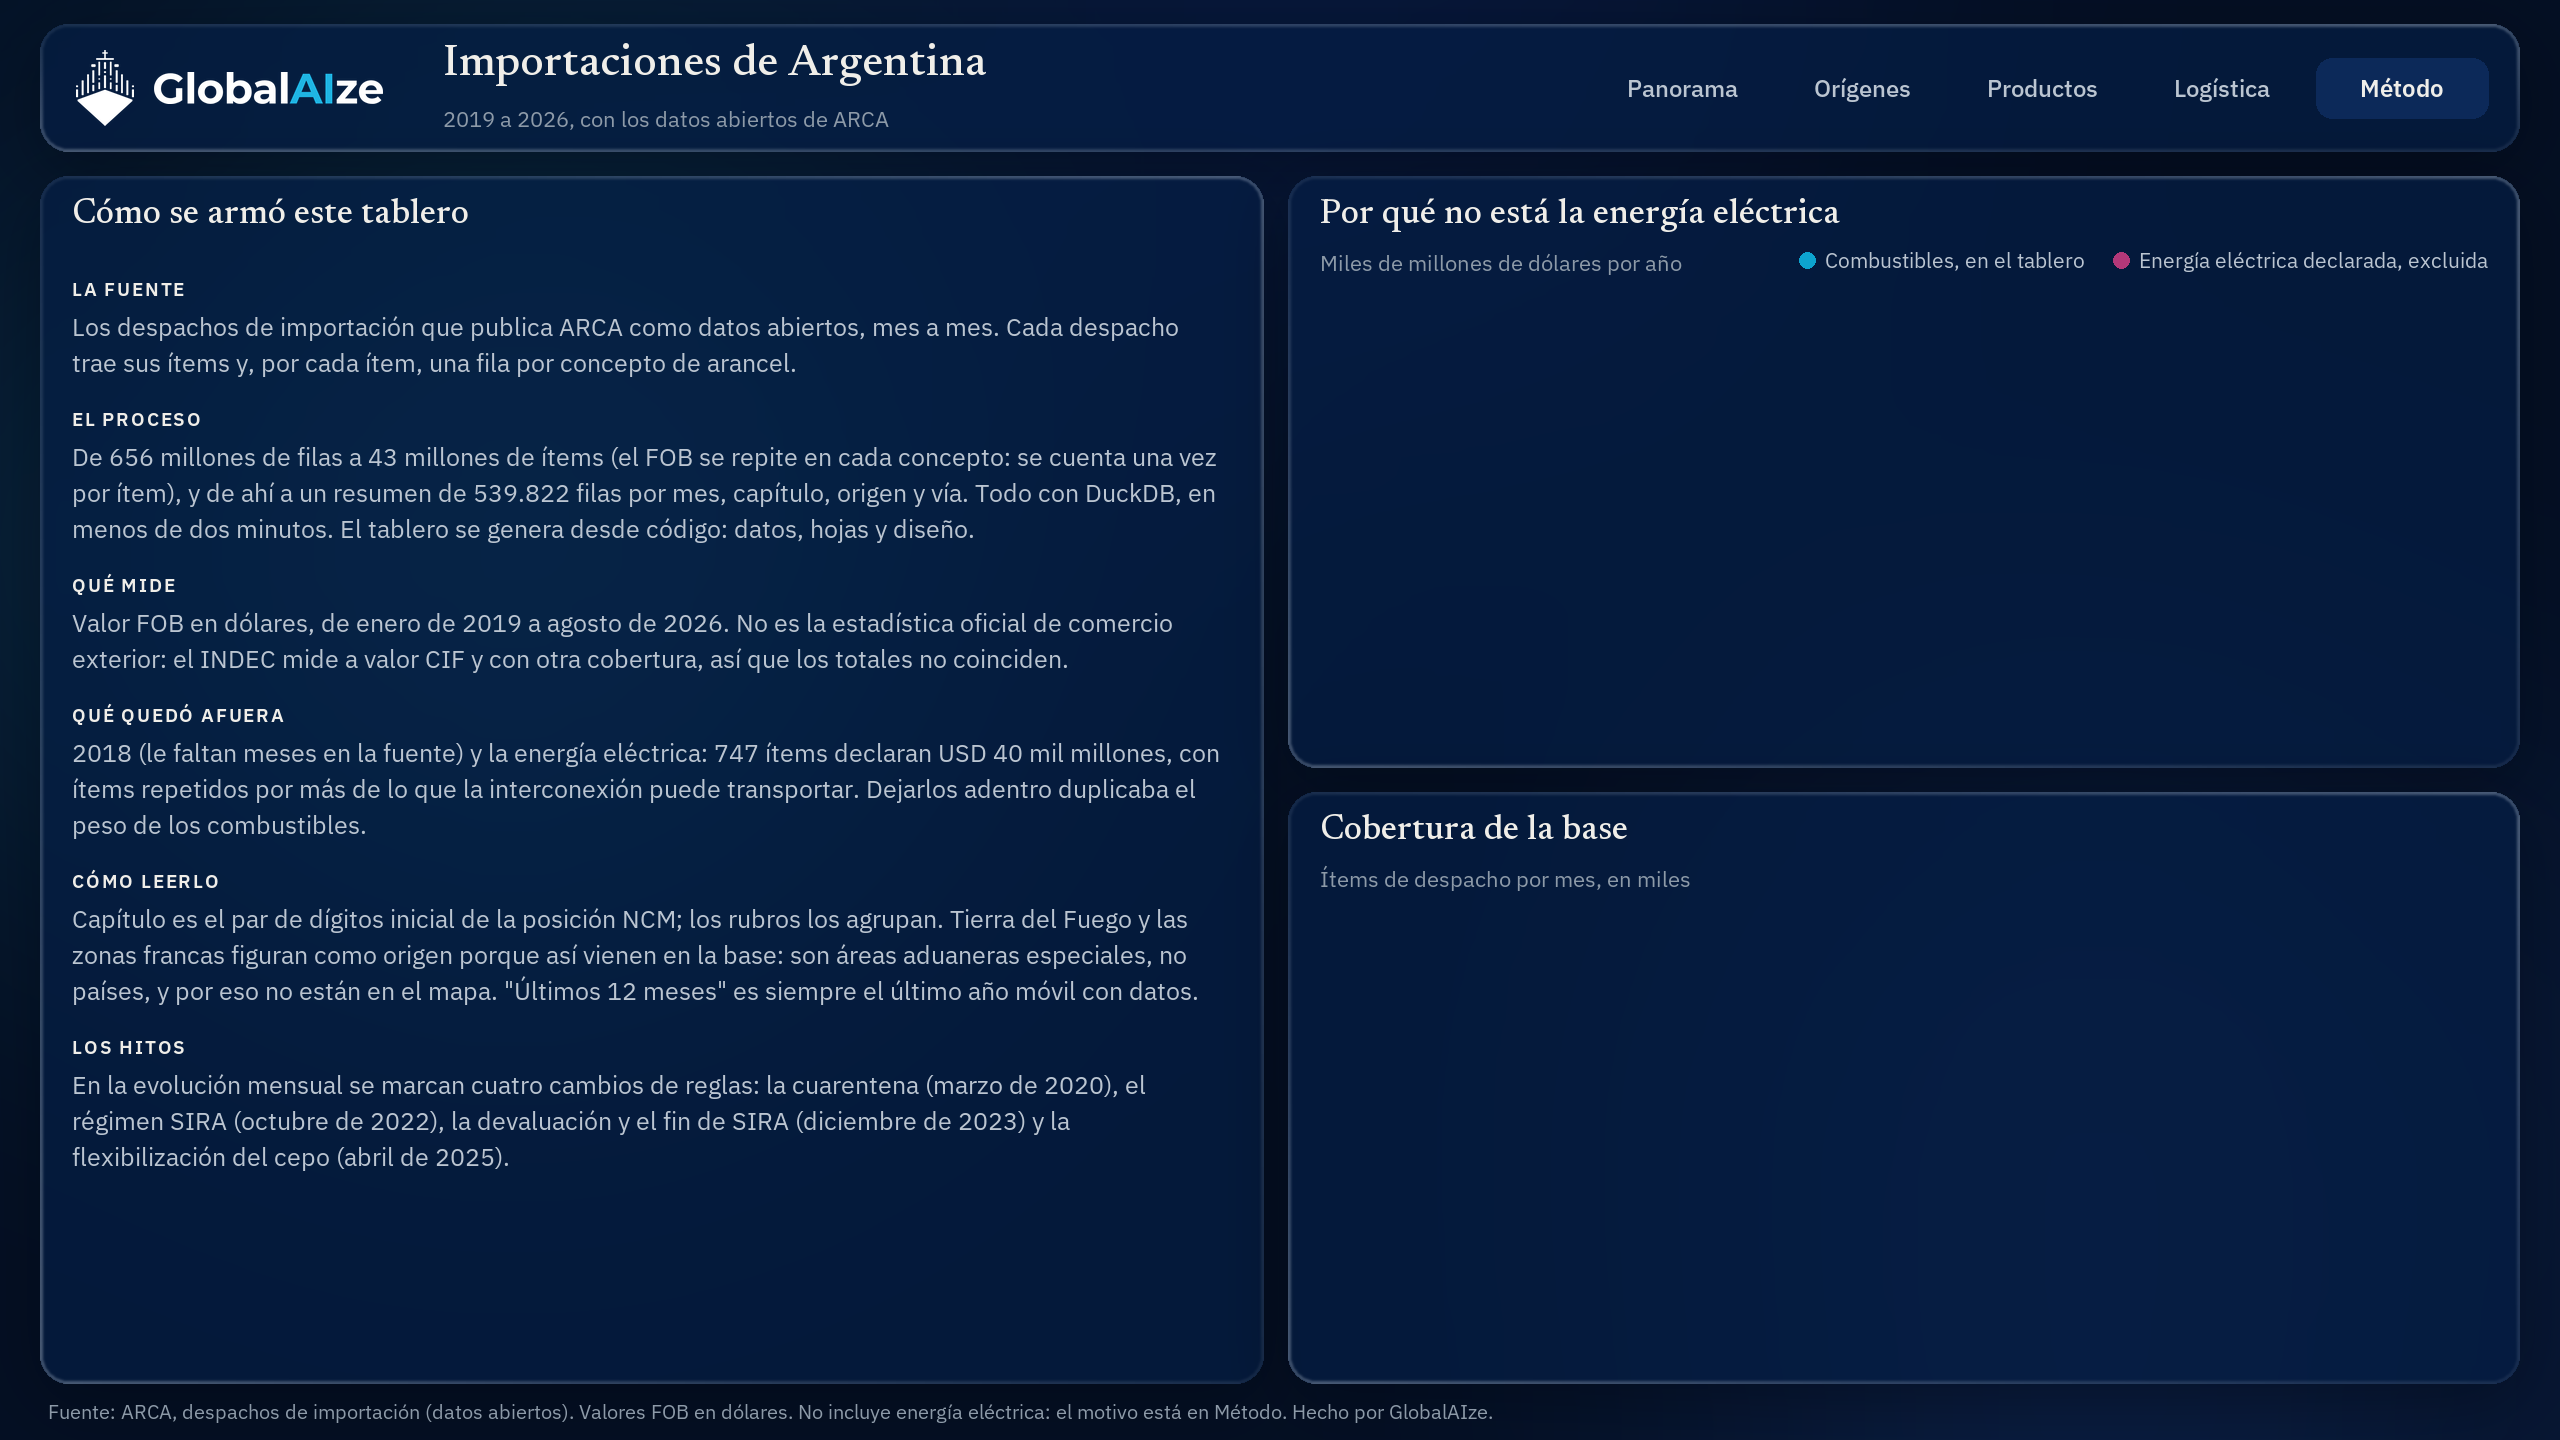

This screenshot's page, from the dashboard's own definition file:
{"tool":"tableau","page":{"name":"Método","canvas":[1280,720],"ordinal":4},"visuals":[{"type":"image","param":"fondos/metodo.png","box":[0,0,1280,720]},{"type":"dashboard-object","box":[798,29,86,30]},{"type":"dashboard-object","box":[888,29,86,30]},{"type":"dashboard-object","box":[978,29,86,30]},{"type":"dashboard-object","box":[1068,29,86,30]},{"type":"worksheet","title":"Energía eléctrica","mark":"Automatic","rows":["c_combustibles","c_electrica"],"cols":["Fecha"],"box":[656,144,592,230]},{"type":"worksheet","title":"Cobertura","mark":"Area","rows":["c_items_miles"],"cols":["Fecha"],"box":[656,452,592,230]}]}

Visuals, with their boxes in screenshot pixels (x1, y1, x2, y2), scaled from the page's 1280x720 canvas onto the 2560x1440 screenshot:
image: locate(0, 0, 2559, 1439)
dashboard-object: locate(1596, 58, 1768, 118)
dashboard-object: locate(1776, 58, 1948, 118)
dashboard-object: locate(1956, 58, 2128, 118)
dashboard-object: locate(2136, 58, 2308, 118)
"Energía eléctrica" worksheet: locate(1312, 288, 2496, 748)
"Cobertura" worksheet (Area marks): locate(1312, 904, 2496, 1364)
